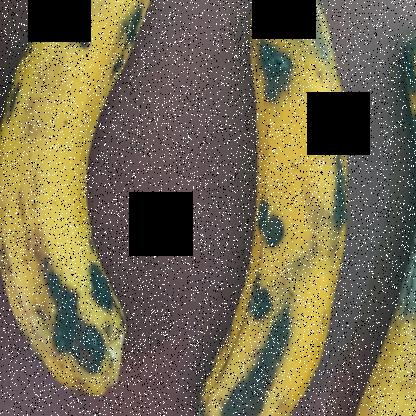overripe: (186, 0, 360, 415), (0, 0, 154, 407)
rotten: (353, 25, 415, 415)
